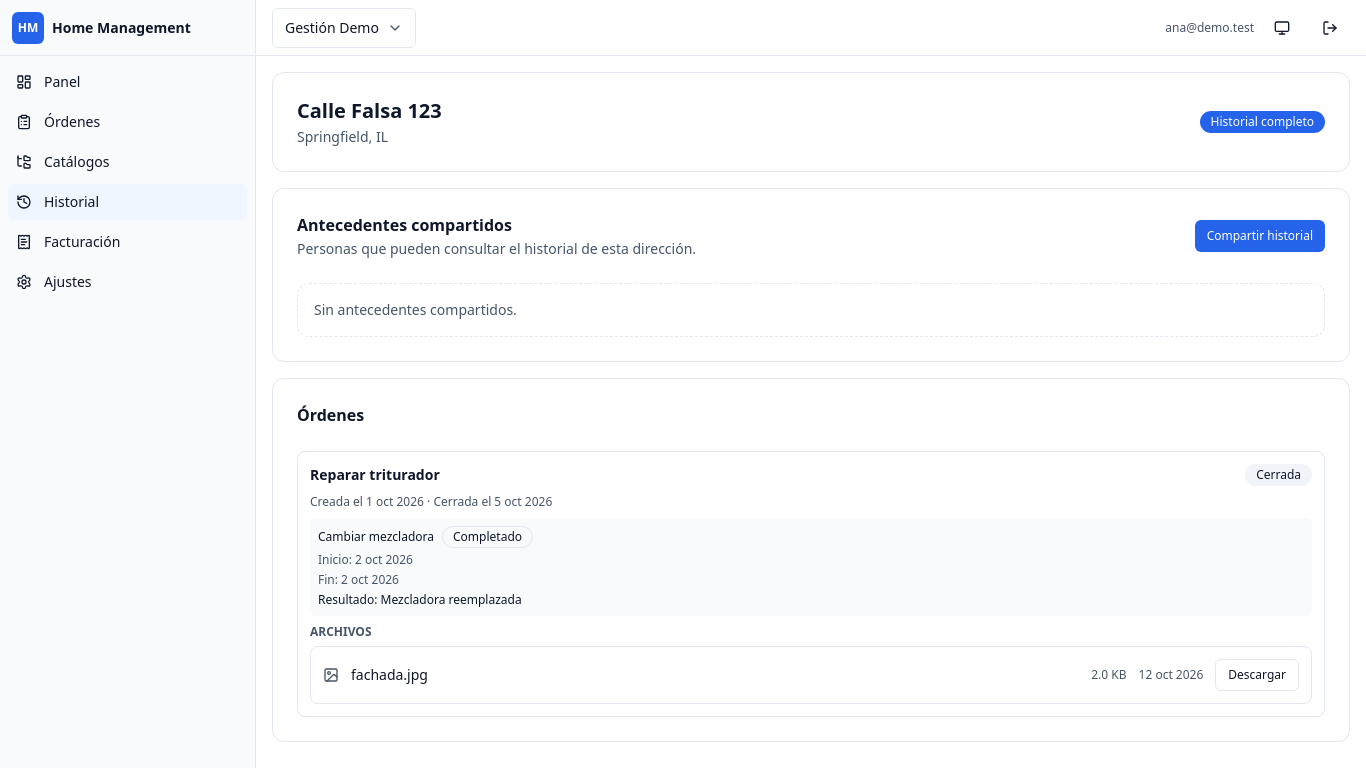
property history (spec F5 §2.4/§5, AC-F5.5…AC-F5.9) › shows the no-access download banner on 404 without file data (AC-F5.5)
The width and height of the screenshot is (1366, 768).
Click the button with aria-label "Descargar fachada.jpg": {"x": 1257, "y": 675} [1215,659,1299,691]
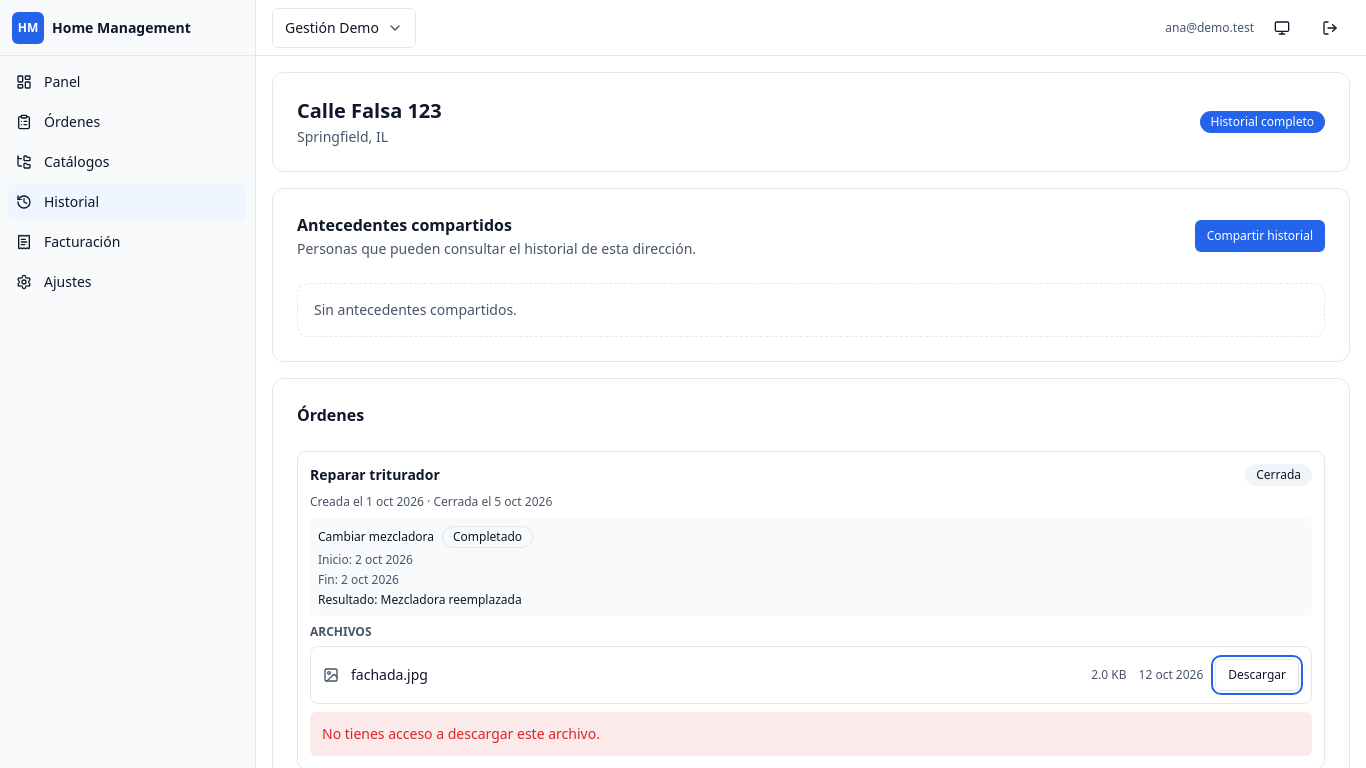
Result: the text "No tienes acceso a descargar este archivo." is shown at [310,712,1312,756]
